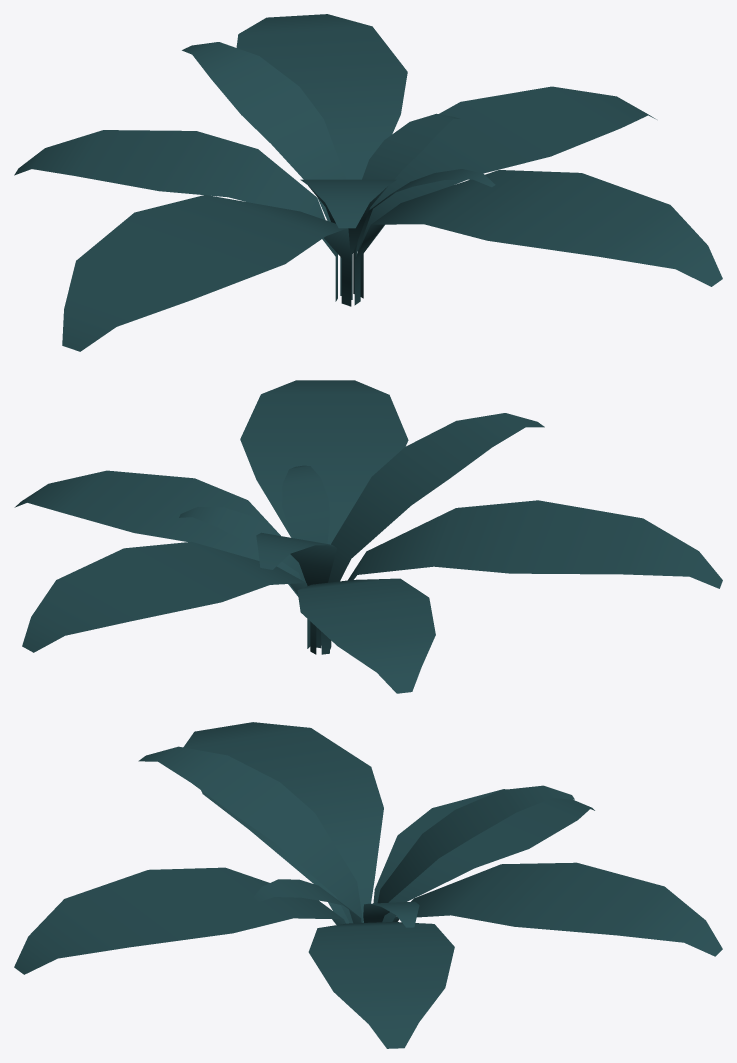
Rendered from C_FruitOfJoy_1.fbx.
3 views of the same model, one above another, from view 1: azimuth 30°, elevation 25°; view 2: azimuth 150°, elevation 25°; view 3: azimuth 270°, elevation 25° (orthographic). The views are drawn at different scales.
Visible parts, largest first — view 1: 4A.001; view 2: 4A.001; view 3: 4A.001.
Part boxes in pixels (x1,y1,x2,y2): 4A.001: (14,14,722,351); 4A.001: (14,380,722,693); 4A.001: (14,722,722,1048).
Bounding box in the file's own units: 66.51 × 18.8 × 64.26.
